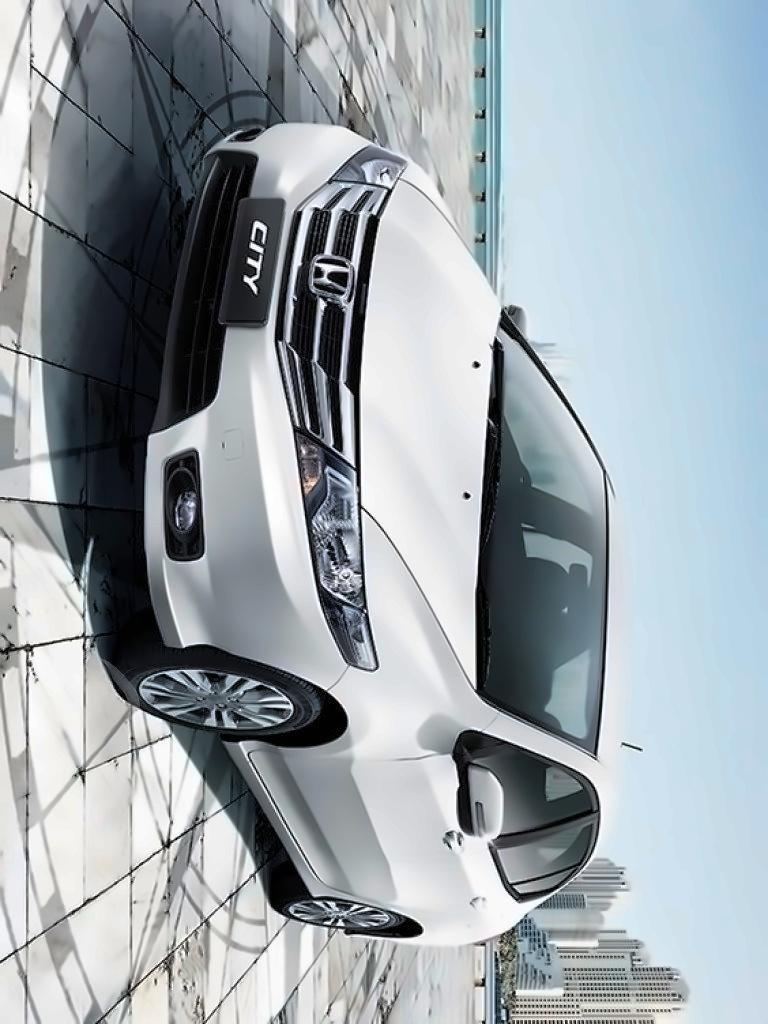Car hood: (355, 174, 491, 707)
Fender - -F-L-: (285, 507, 503, 780)
Front bumper: (142, 122, 354, 697)
Headlight - -L-: (292, 417, 385, 679)
Headlight - -R-: (329, 140, 399, 196)
Passenger-s door - -F-L-: (210, 740, 588, 855)
Passenger-s door - -R-L-: (266, 801, 610, 889)
Side bumper - -L-: (210, 719, 322, 931)
Side mirror - -L-: (442, 750, 511, 848)
